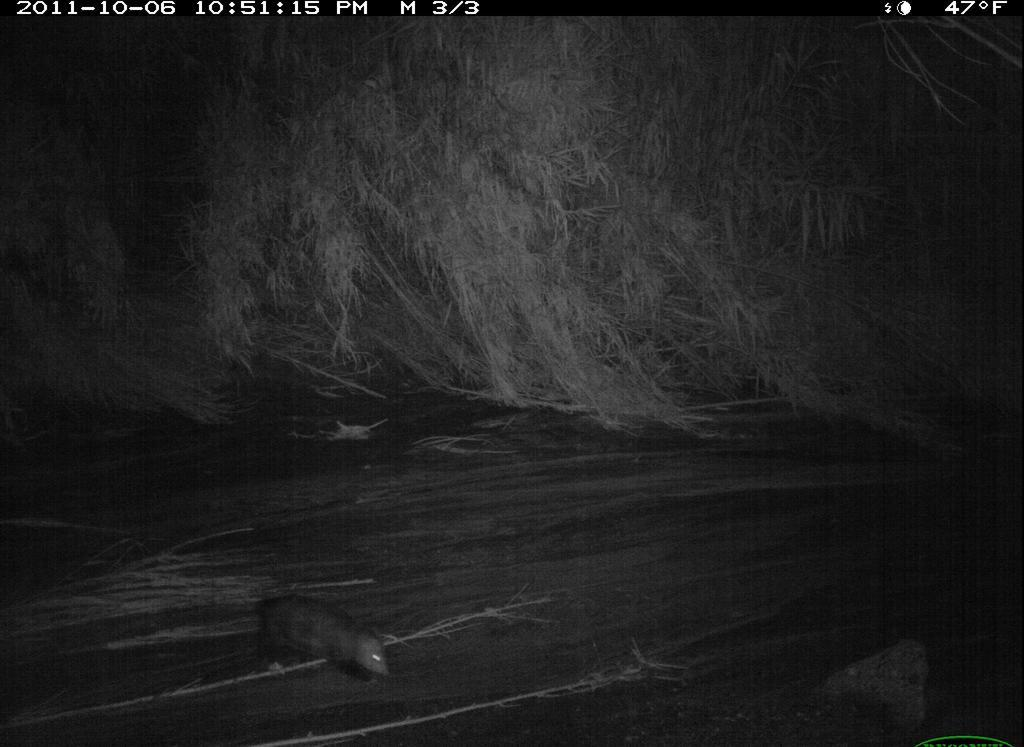opossum: (225, 591, 395, 689)
